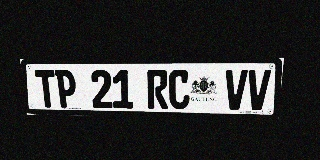1: (111, 70, 133, 108)
2: (90, 70, 113, 108)
C: (169, 70, 190, 109)
P: (55, 70, 77, 108)
R: (147, 70, 168, 109)
T: (35, 70, 58, 108)
V: (246, 70, 271, 110), (224, 70, 248, 110)
